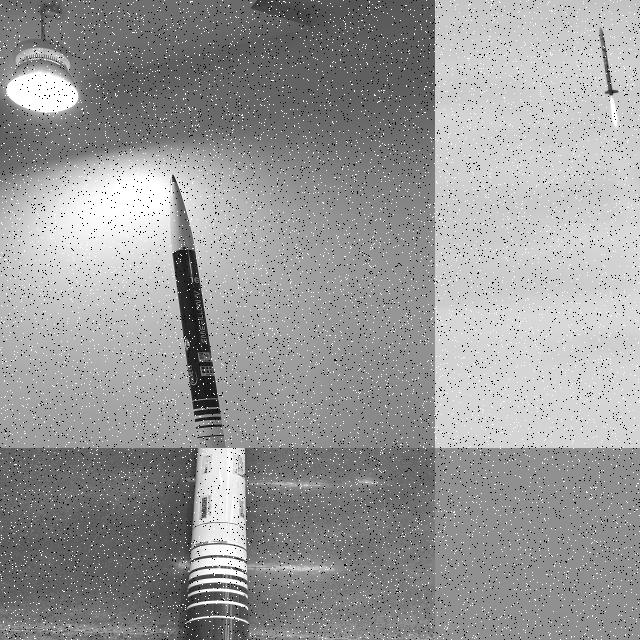Rocket: (169, 174, 226, 448), (185, 448, 252, 640), (598, 26, 619, 96)
